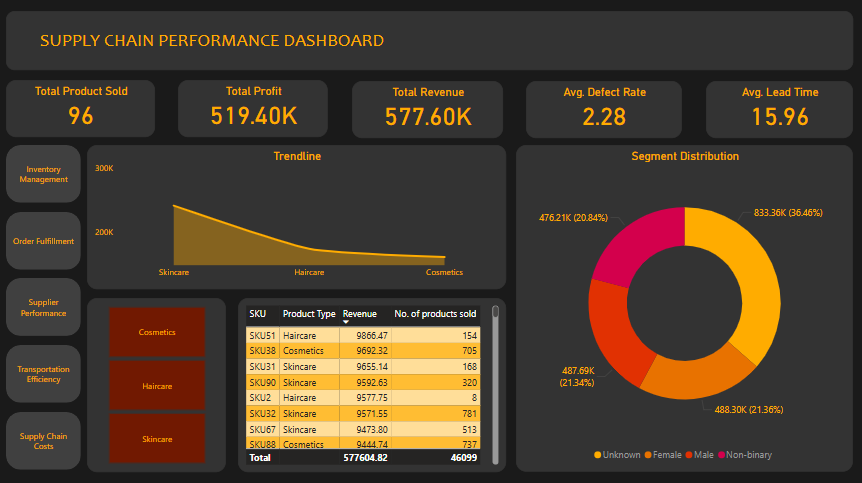

What the dashboard file says about the page in this screenshot:
{"tool":"powerbi","page":{"name":"Overview","canvas":[1280,720],"ordinal":0},"visuals":[{"type":"textbox","box":[11.8,22,1244.6,86.7],"z":0},{"type":"card","title":"Total Revenue","fields":{"Values":["Sum(Cleaned_Data.Revenue generated)"]},"box":[520.2,124.9,221.9,83.8],"z":1000},{"type":"card","title":"Total Product Sold","fields":{"Values":["Count(Cleaned_Data.Number of products sold)"]},"box":[11.8,123.4,218.9,83.8],"z":2000},{"type":"card","title":"Total Profit","fields":{"Values":["Cleaned_Data.Total Profit"]},"box":[265.2,123.4,220.4,83.8],"z":3000},{"type":"card","title":"Avg. Defect Rate","fields":{"Values":["Avg(Cleaned_Data.Defect rates)"]},"box":[776.6,124.9,229.2,83.8],"z":4000},{"type":"card","title":"Avg. Lead Time","fields":{"Values":["Avg(Cleaned_Data.Lead times)"]},"box":[1040.3,124.9,216,83.8],"z":5000},{"type":"areaChart","title":"Trendline","fields":{"Y":["Sum(Cleaned_Data.Revenue generated)"],"Category":["Cleaned_Data.Product Type"]},"box":[130.8,218.9,615.7,211.6],"z":6000},{"type":"donutChart","title":"Segment Distribution","fields":{"Y":["Sum(Cleaned_Data.Sales)"],"Category":["Cleaned_Data.Customer demographics"]},"box":[761.1,218.9,495.2,480.5],"z":7000},{"type":"tableEx","fields":{"Values":["Cleaned_Data.SKU","Cleaned_Data.Product Type","Sum(Cleaned_Data.Revenue generated)","Sum(Cleaned_Data.Number of products sold)"]},"box":[352.7,443.8,393.8,255.7],"z":8000},{"type":"slicer","fields":{"Values":["Cleaned_Data.Product Type"]},"box":[130.8,443.8,204.2,255.7],"z":9000},{"type":"actionButton","box":[11.8,218.9,110,85],"z":10000},{"type":"actionButton","box":[11.8,415,110,85.2],"z":11000},{"type":"actionButton","box":[11.8,317,110,85],"z":12000},{"type":"actionButton","box":[11.8,611.3,110,85],"z":13000},{"type":"actionButton","box":[11.8,513.2,110,85],"z":14000}]}

Visuals, with their boxes in screenshot pixels (x1, y1, x2, y2), scaled from the page's 1280x720 canvas onto the 862x483 screenshot:
textbox: <region>8, 15, 846, 73</region>
"Total Revenue" card: <region>350, 84, 500, 140</region>
"Total Product Sold" card: <region>8, 83, 155, 139</region>
"Total Profit" card: <region>179, 83, 327, 139</region>
"Avg. Defect Rate" card: <region>523, 84, 677, 140</region>
"Avg. Lead Time" card: <region>701, 84, 846, 140</region>
"Trendline" areaChart: <region>88, 147, 503, 289</region>
"Segment Distribution" donutChart: <region>513, 147, 846, 469</region>
tableEx - Cleaned_Data.SKU x Cleaned_Data.Product Type: <region>238, 298, 503, 469</region>
slicer - Cleaned_Data.Product Type: <region>88, 298, 226, 469</region>
actionButton: <region>8, 147, 82, 204</region>
actionButton: <region>8, 278, 82, 336</region>
actionButton: <region>8, 213, 82, 270</region>
actionButton: <region>8, 410, 82, 467</region>
actionButton: <region>8, 344, 82, 401</region>
